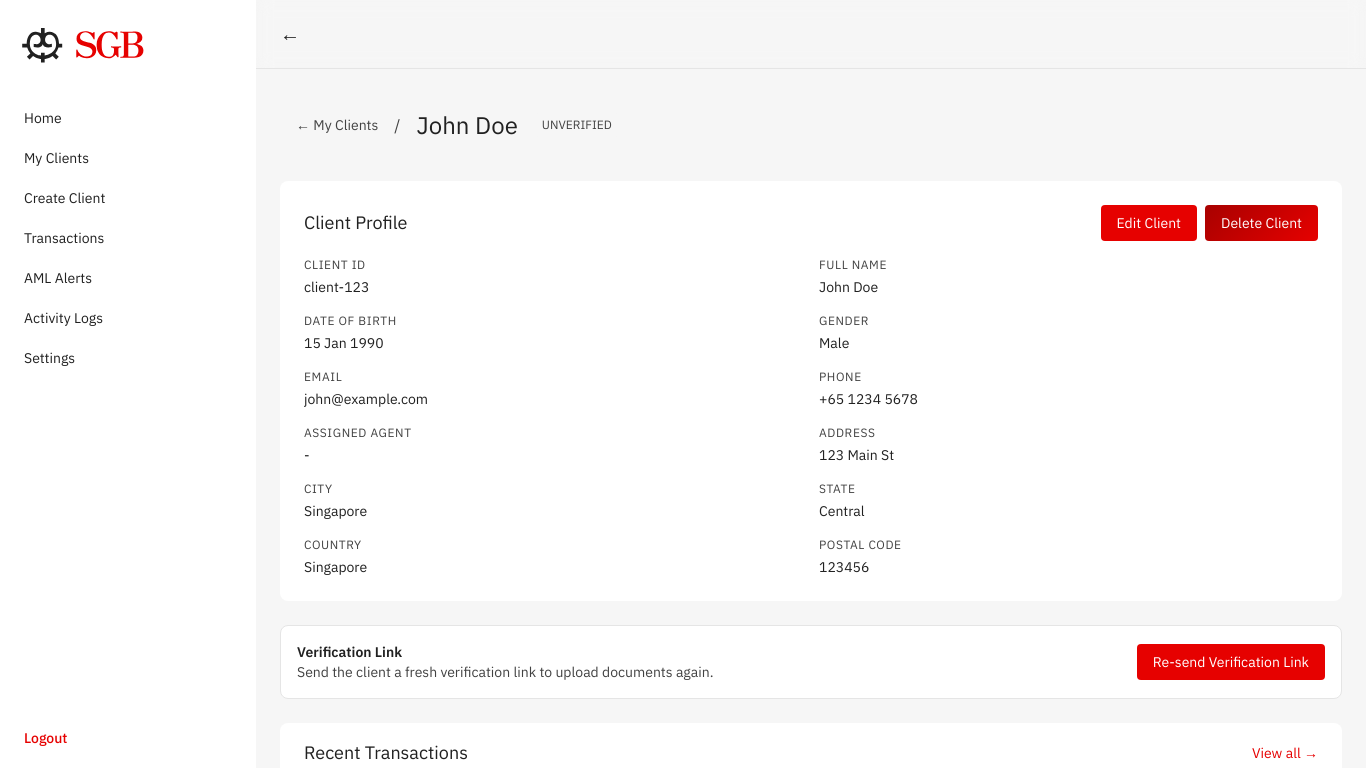
Test: ClientDetailPage › shows delete error on 403 during delete
Click the button "Delete Client".
click(1262, 223)  # box [1205,205,1318,241]
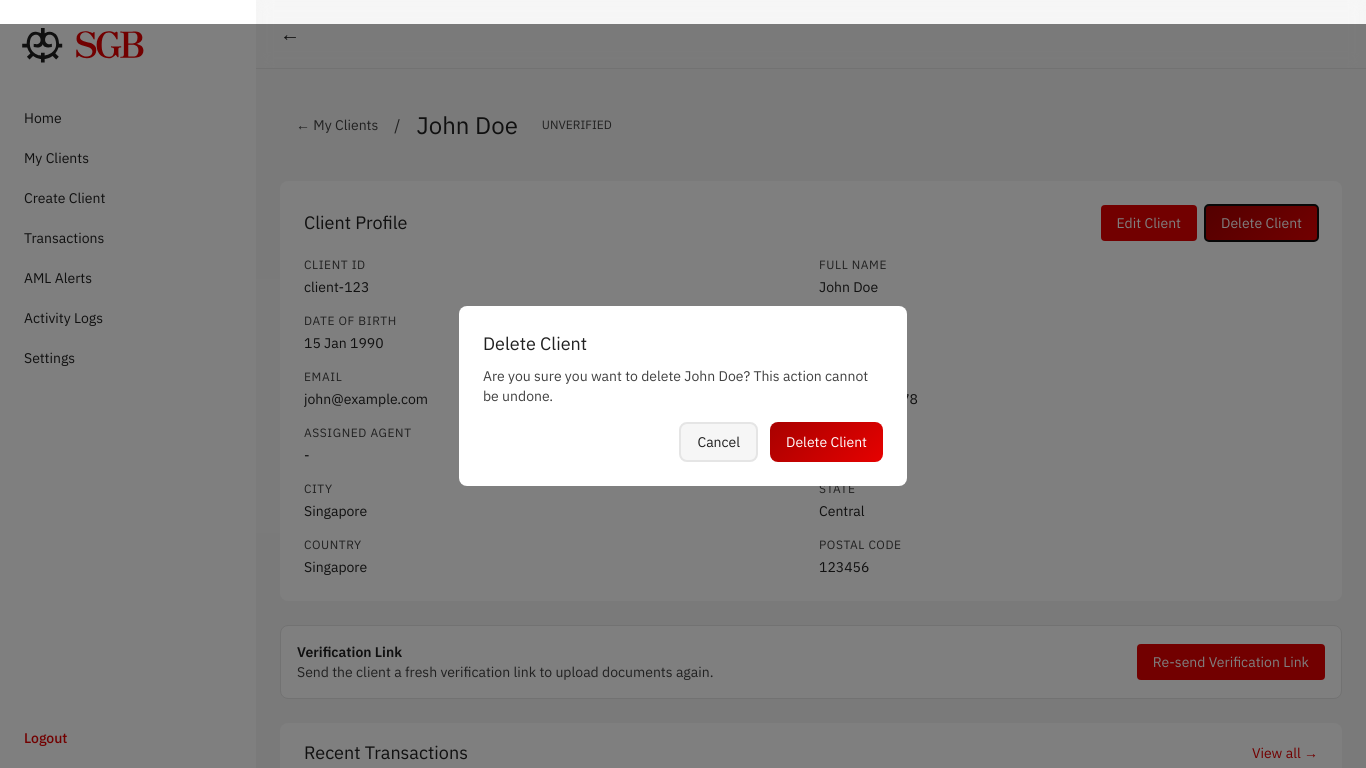
Check: the element with test id "delete-client-modal" is shown
Click the button "Delete Client".
click(826, 442)  # box [770,422,883,462]
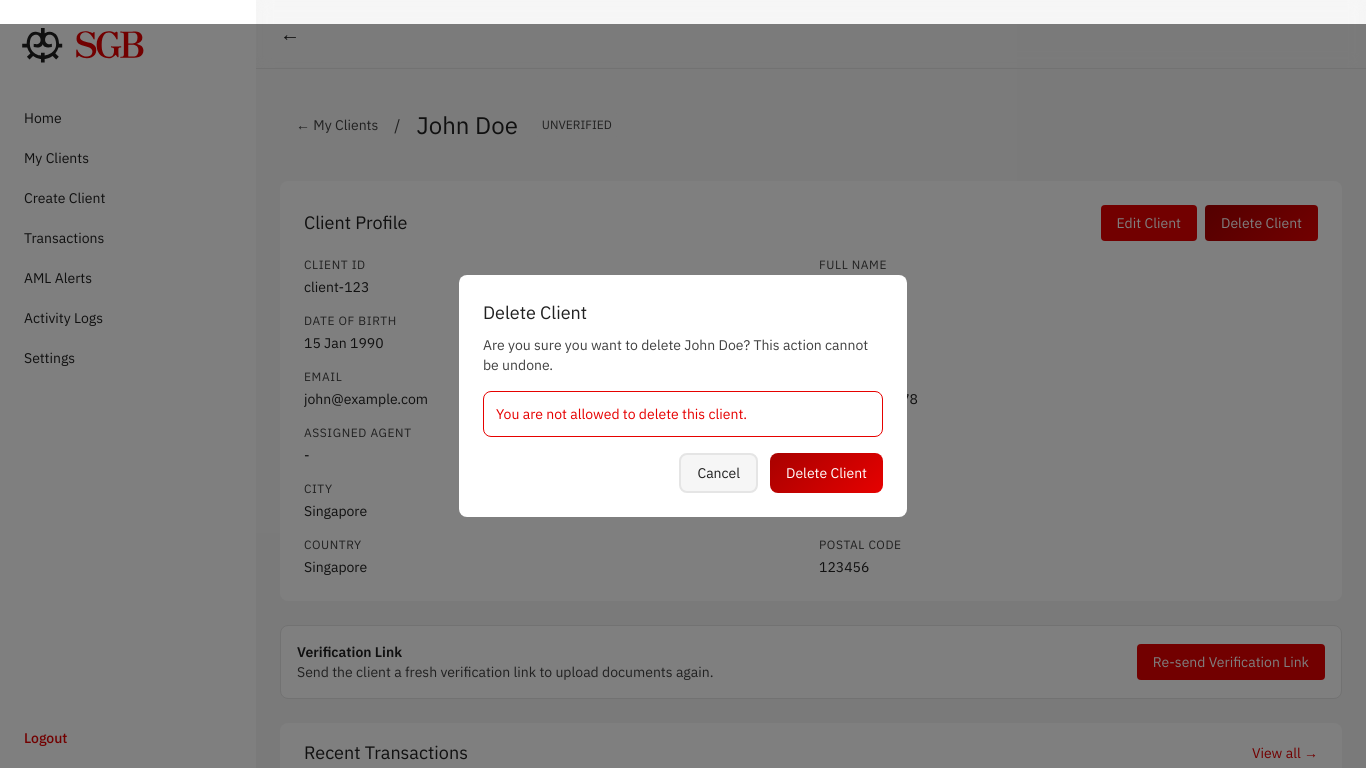
Check: the text "You are not allowed to delete this client." is shown, box [496,405,747,423]
